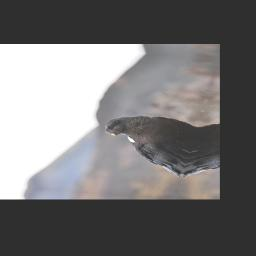Crow: (88, 111, 200, 178)
